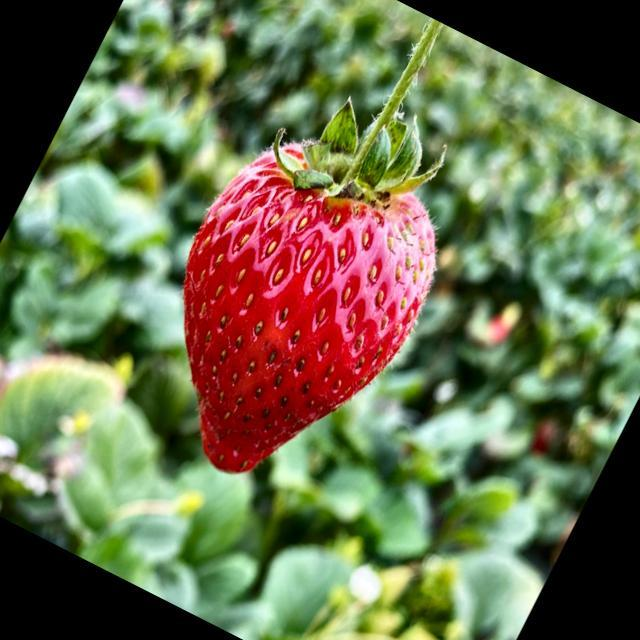strawberry: (184, 21, 444, 472)
